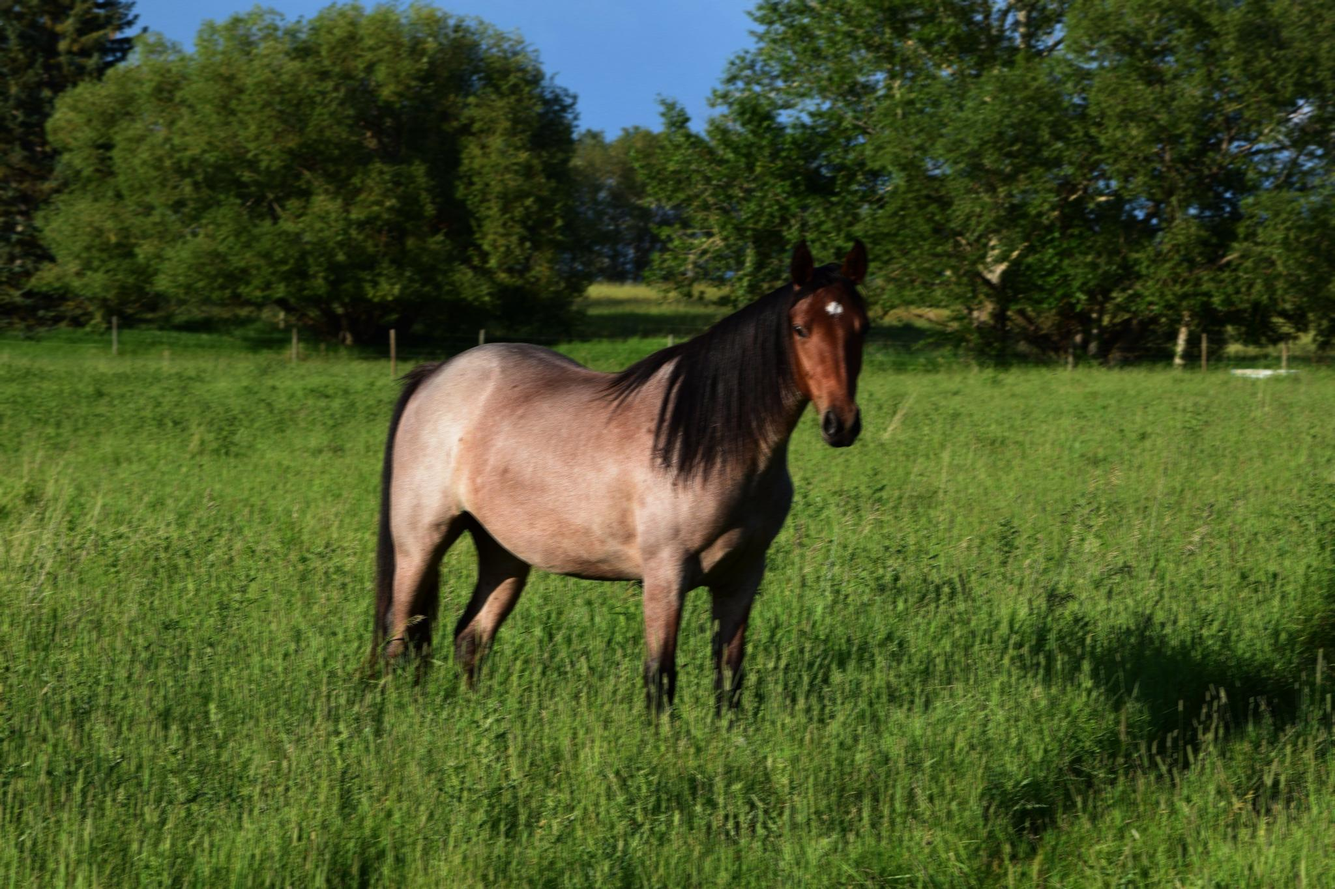horse: (343, 232, 915, 689)
